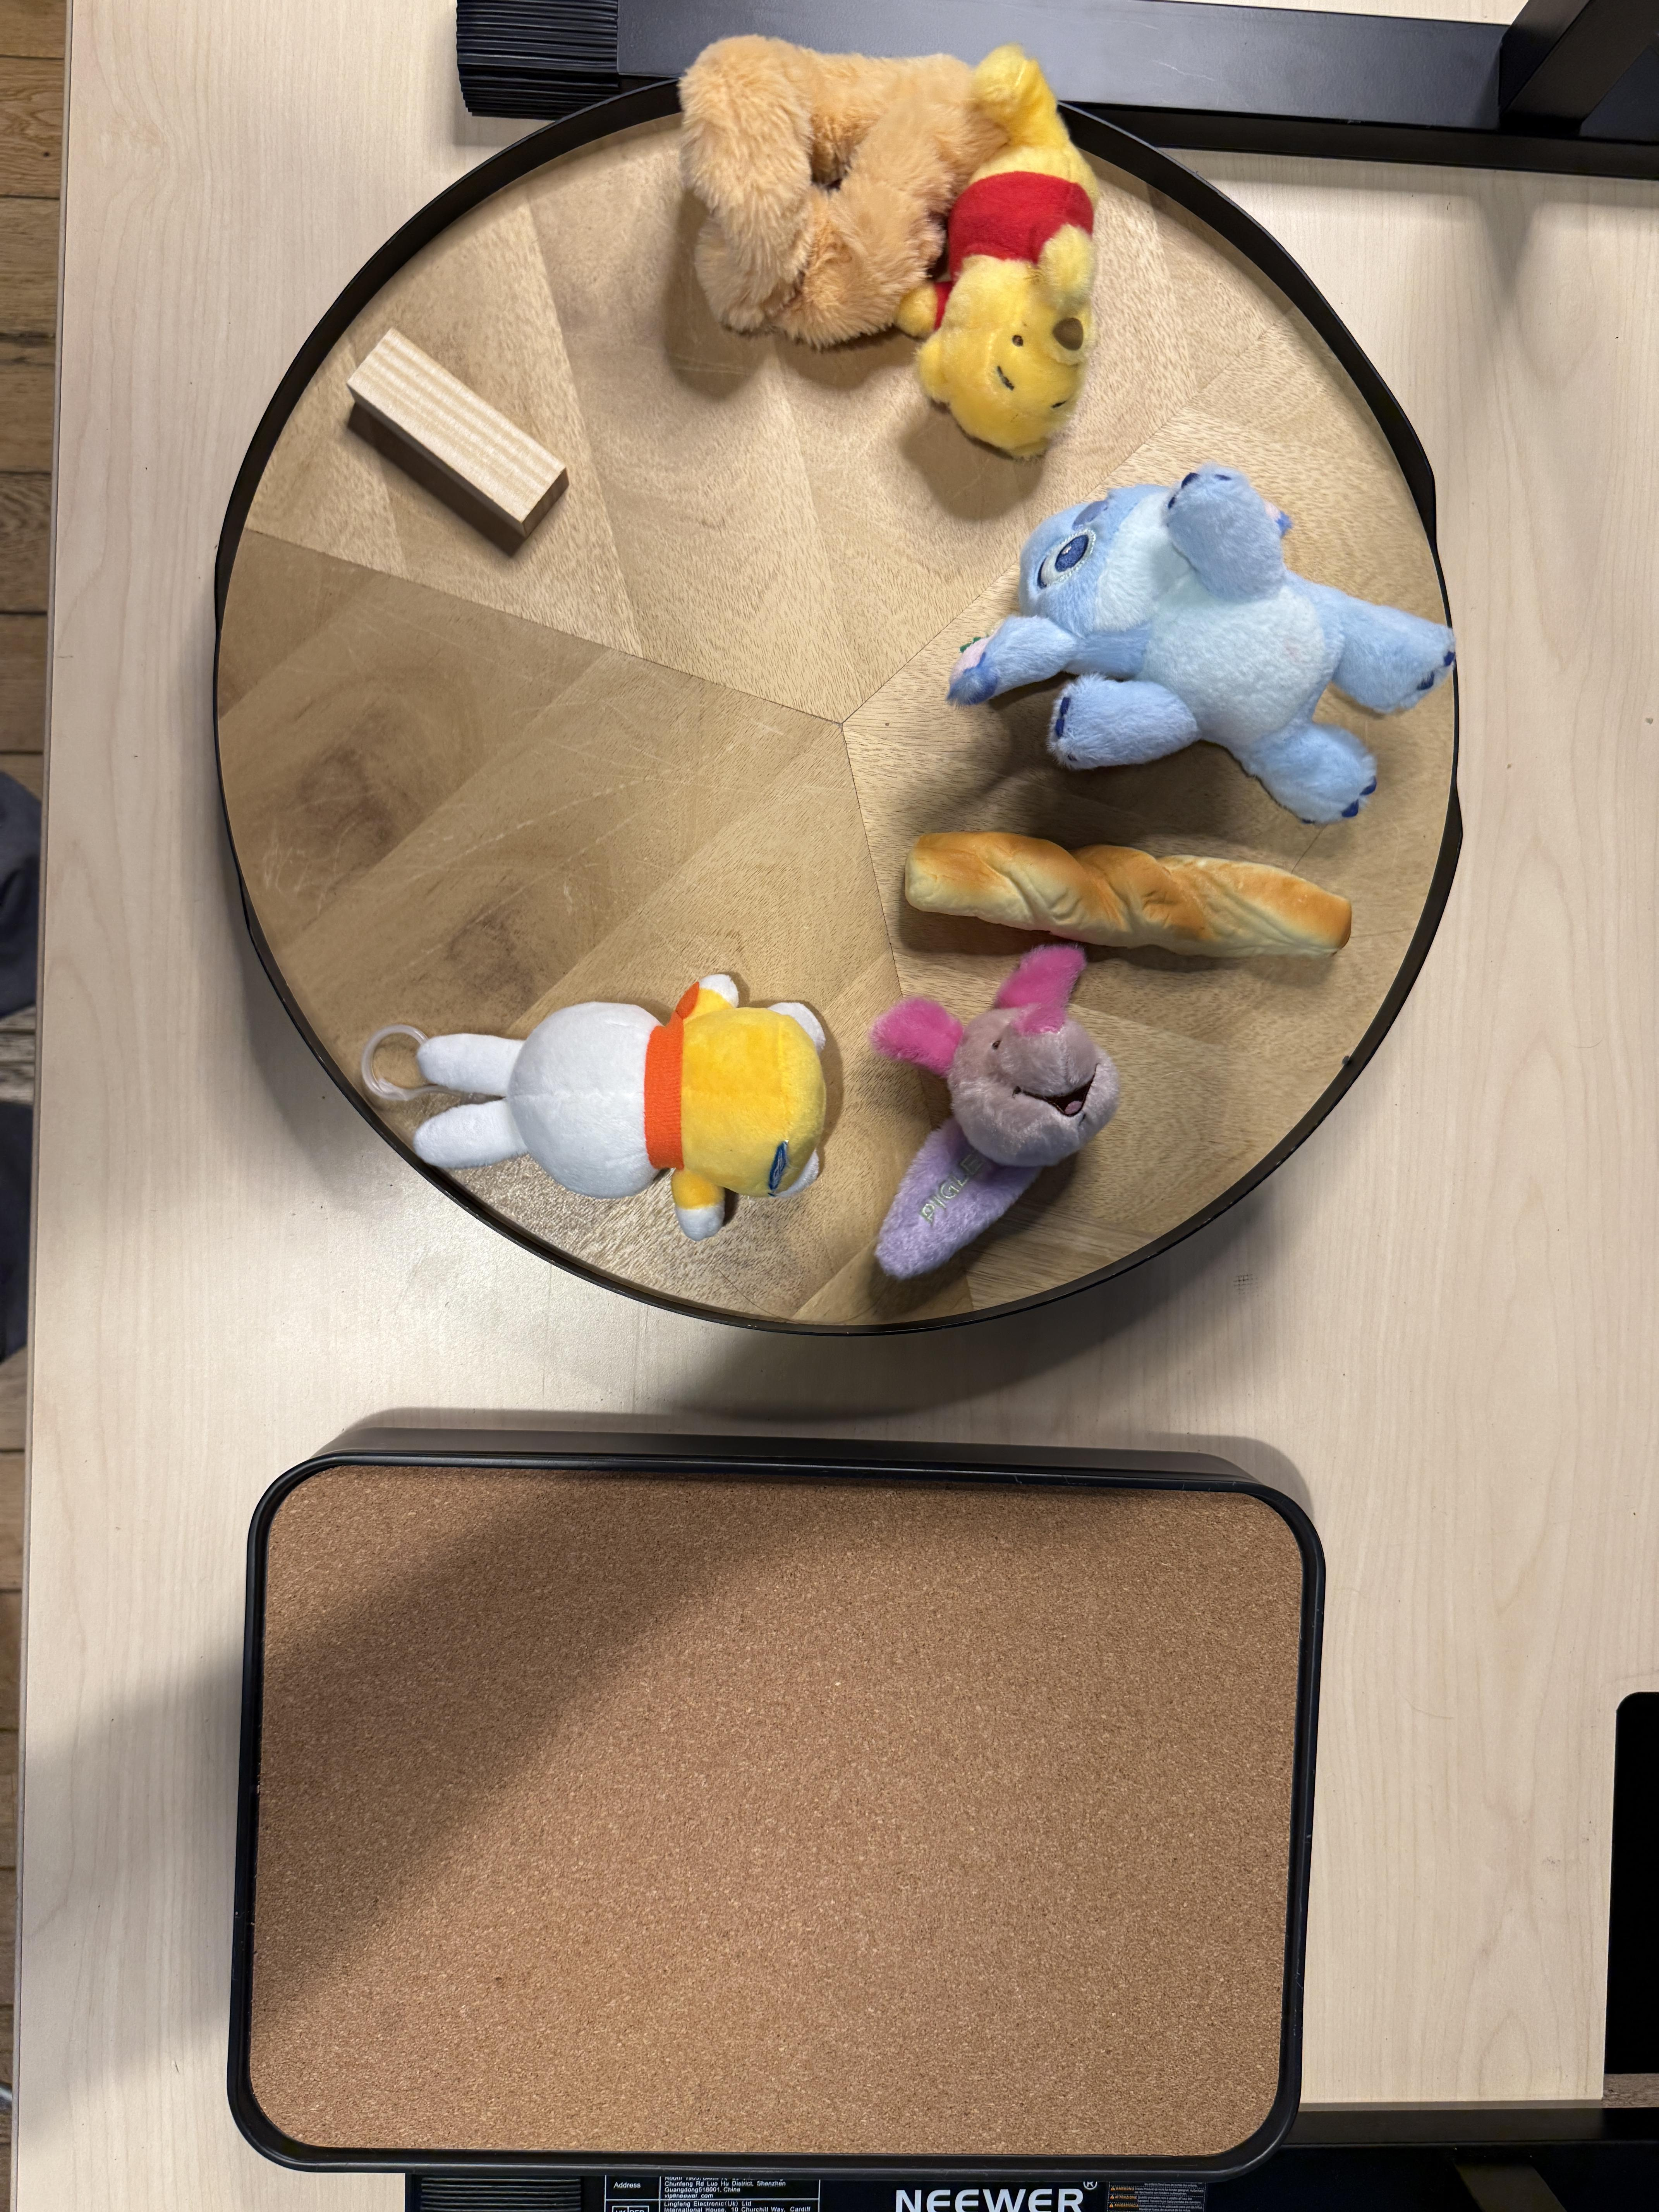block: (342, 326, 570, 536)
bread: (906, 826, 1361, 963)
doll: (953, 462, 1462, 824), (685, 35, 1124, 449), (415, 965, 840, 1244), (884, 949, 1124, 1277)
